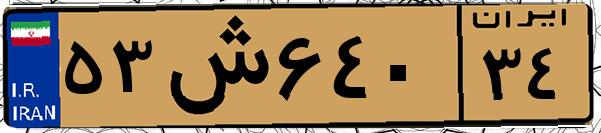0: (385, 28, 445, 110)
3: (475, 38, 525, 113), (110, 28, 158, 98)
4: (330, 28, 385, 110), (525, 38, 570, 115)
5: (57, 26, 110, 100)
6: (270, 28, 330, 110)
ش: (158, 12, 270, 120)
